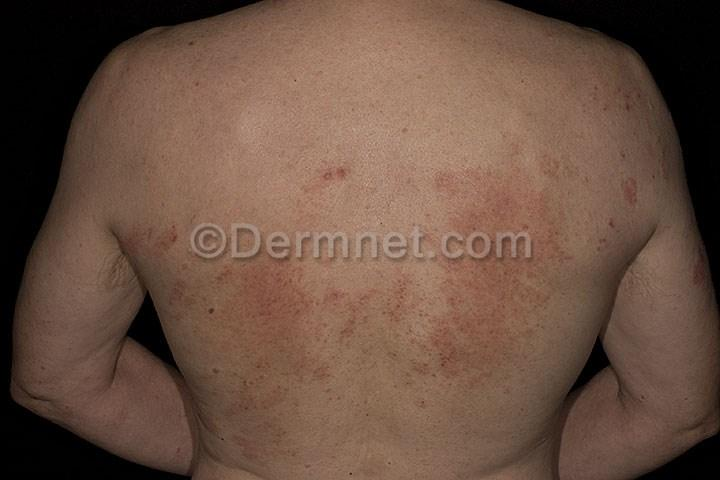Eczema: (349, 276, 545, 418), (406, 85, 561, 220), (195, 265, 349, 399), (568, 65, 669, 219), (292, 116, 378, 214), (118, 171, 190, 260), (674, 235, 714, 300)
